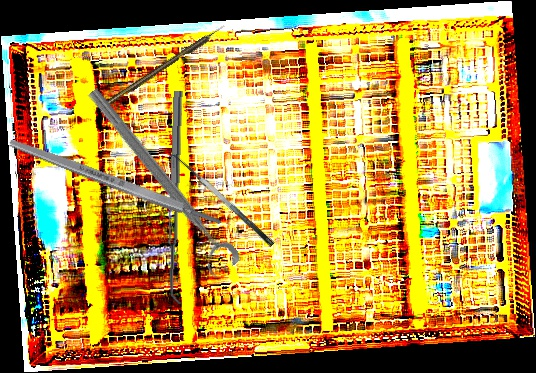Fixation Ring: (73, 83, 243, 282)
Hook Surgical: (98, 23, 227, 112)
Scalpel Handle: (7, 135, 224, 230)
Spatula Surgical: (164, 147, 276, 256), (166, 90, 191, 305)
